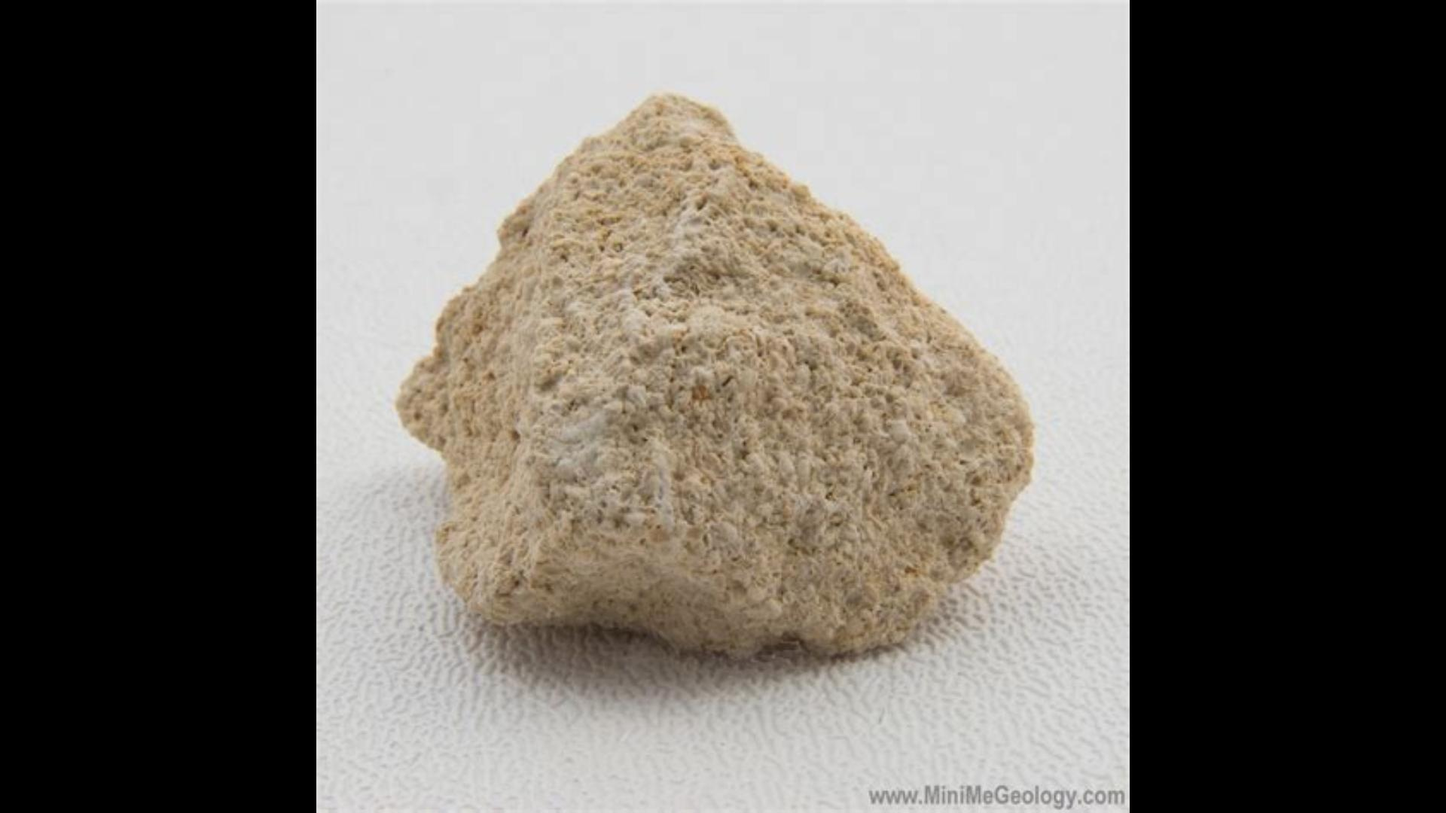rock: (402, 99, 1030, 653)
